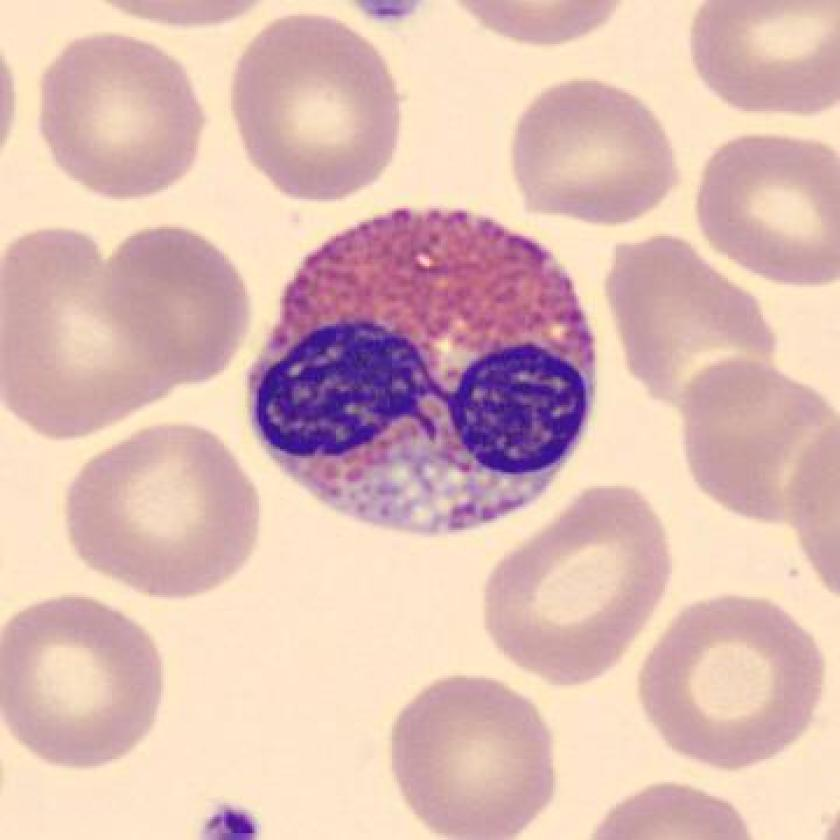eosinophil: (242, 189, 613, 550)
